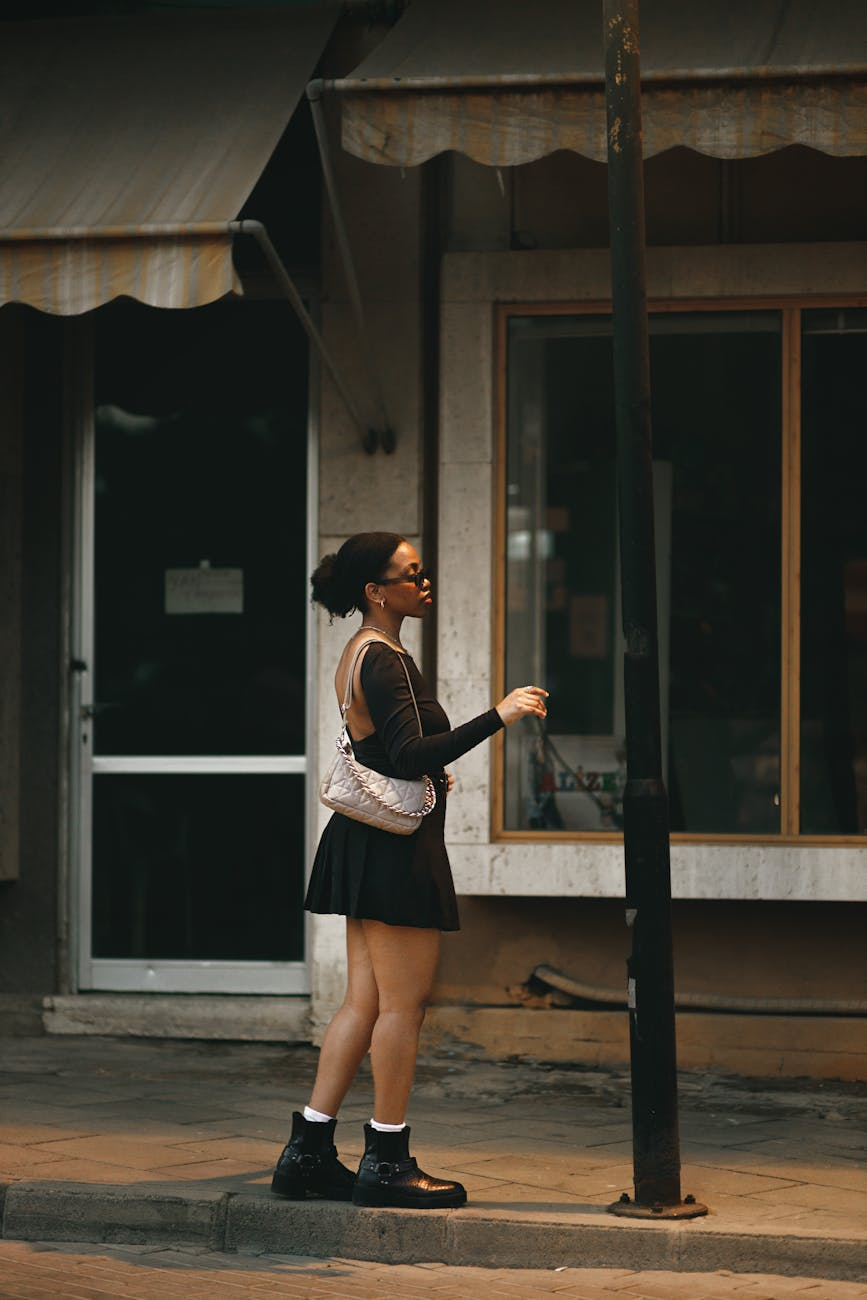crop_top: (335, 630, 448, 780)
short_medium_skirt: (295, 788, 473, 934)
